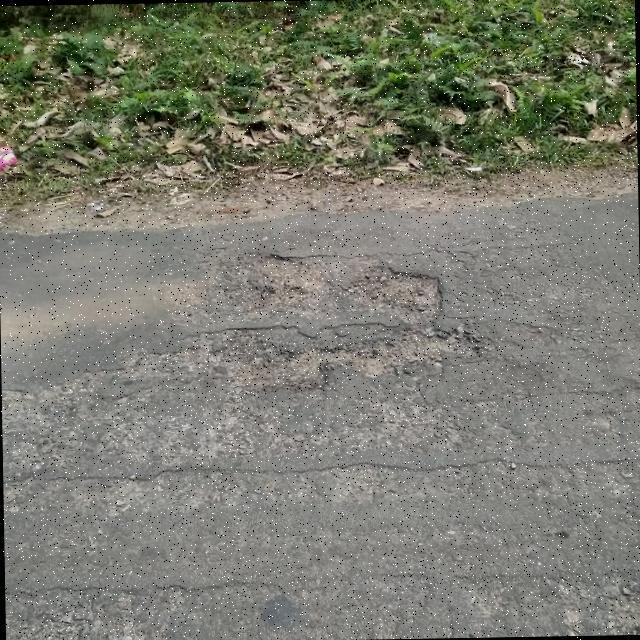Pothole: (123, 247, 482, 393)
